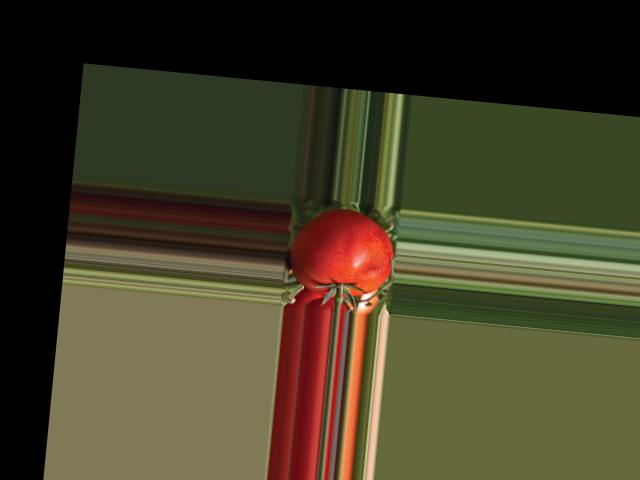tomato: (287, 205, 397, 301)
